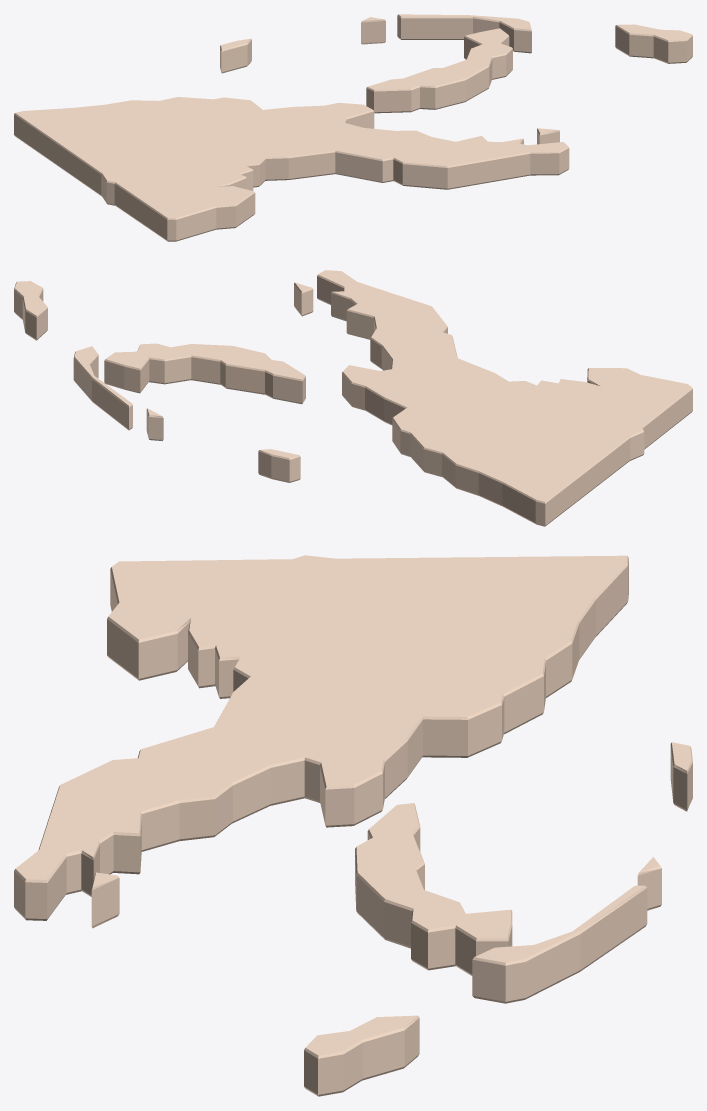
Rendered from PNG.glb.
The picture shows the model from 3 angles, top to bottom: view 1: azimuth 30°, elevation 25°; view 2: azimuth 150°, elevation 25°; view 3: azimuth 270°, elevation 25°; orthographic projection. The views are drawn at different scales.
Size of the model in its own units: 1.79 by 0.068 by 1.02.
